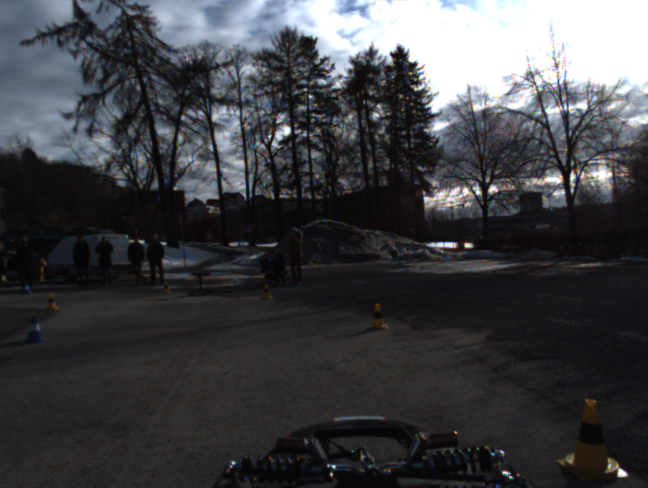cone-small-blue: (24, 315, 46, 344), (22, 282, 33, 295)
cone-small-yellow: (556, 398, 630, 480), (367, 303, 389, 330), (44, 292, 60, 311), (260, 283, 274, 300), (161, 281, 173, 294)
